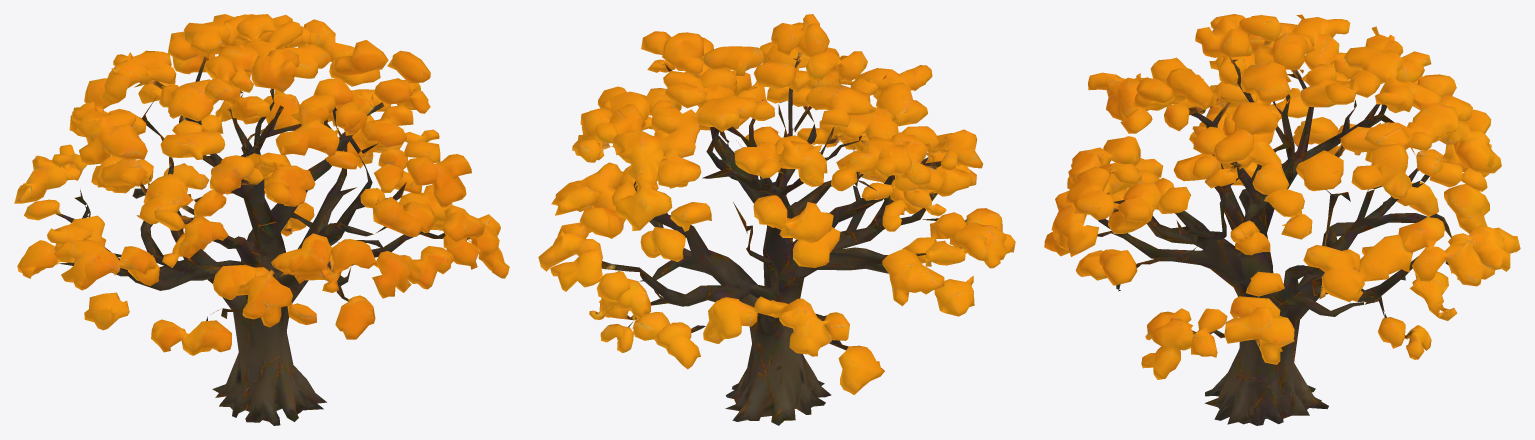
The model's file is prop-oak-autumn.glb.
3 renders of one model, left to right at view 1: azimuth 30°, elevation 25°; view 2: azimuth 150°, elevation 25°; view 3: azimuth 270°, elevation 25°, orthographic. The views are drawn at different scales.
Size of the model in its own units: 1.89 by 1.57 by 1.8.
1 material, 1 textured.
